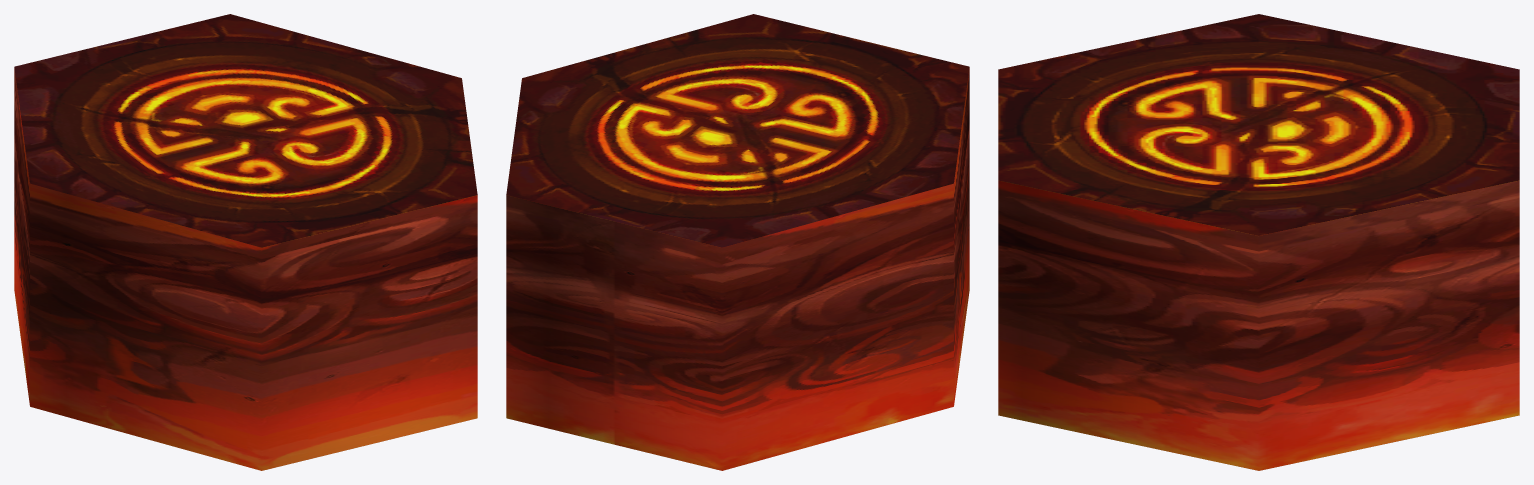
File: 普通格子3.FBX
The picture shows the model from 3 angles, left to right: view 1: azimuth 30°, elevation 25°; view 2: azimuth 150°, elevation 25°; view 3: azimuth 270°, elevation 25°; orthographic projection. The views are drawn at different scales.
Visible parts, largest first — view 1: 对象002, Cylinder001; view 2: 对象002, Cylinder001; view 3: 对象002, Cylinder001.
Boxes of the visible parts, <box> form: 对象002: <box>14,68,477,470</box>; Cylinder001: <box>14,14,477,247</box>; 对象002: <box>506,68,969,470</box>; Cylinder001: <box>506,14,969,247</box>; 对象002: <box>998,180,1519,470</box>; Cylinder001: <box>998,14,1519,235</box>.
Size of the model in its own units: 121 by 59.57 by 120.
